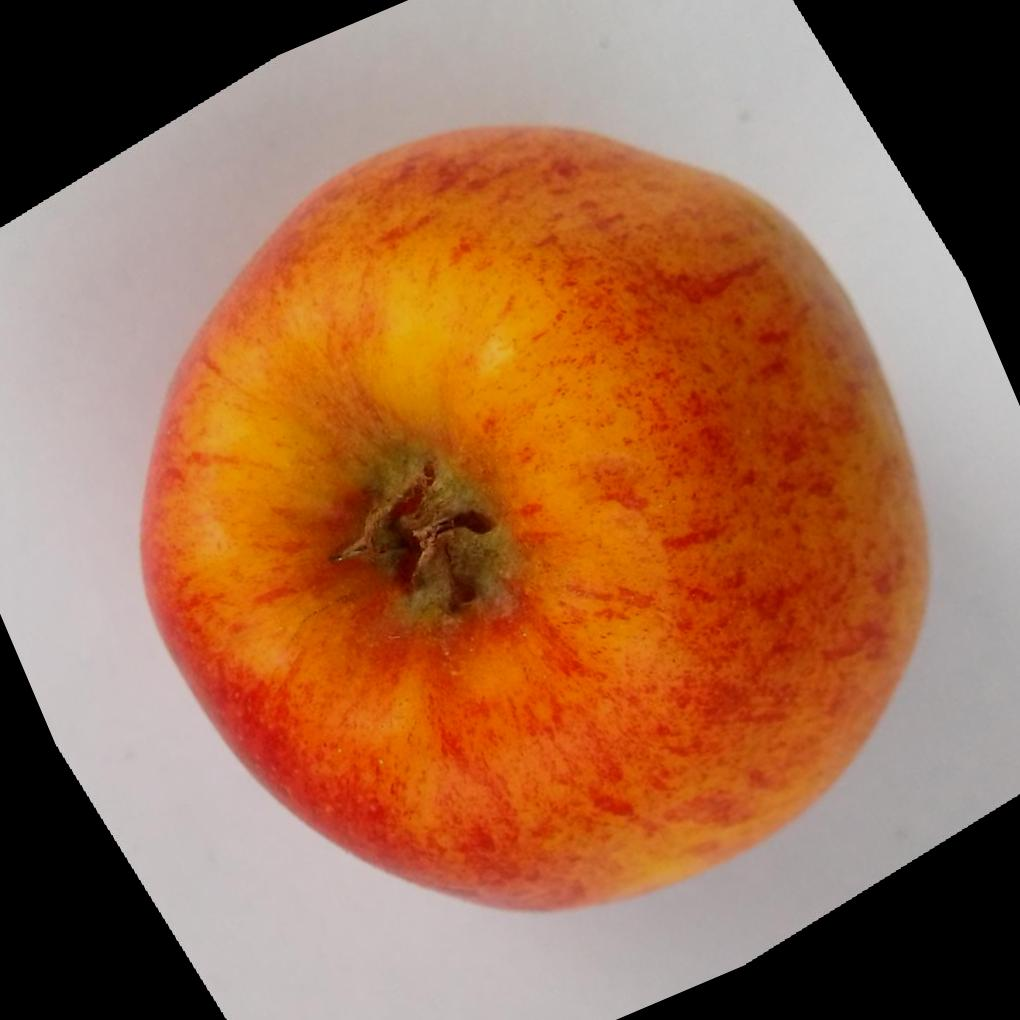FreshGuava: (138, 124, 932, 917)
